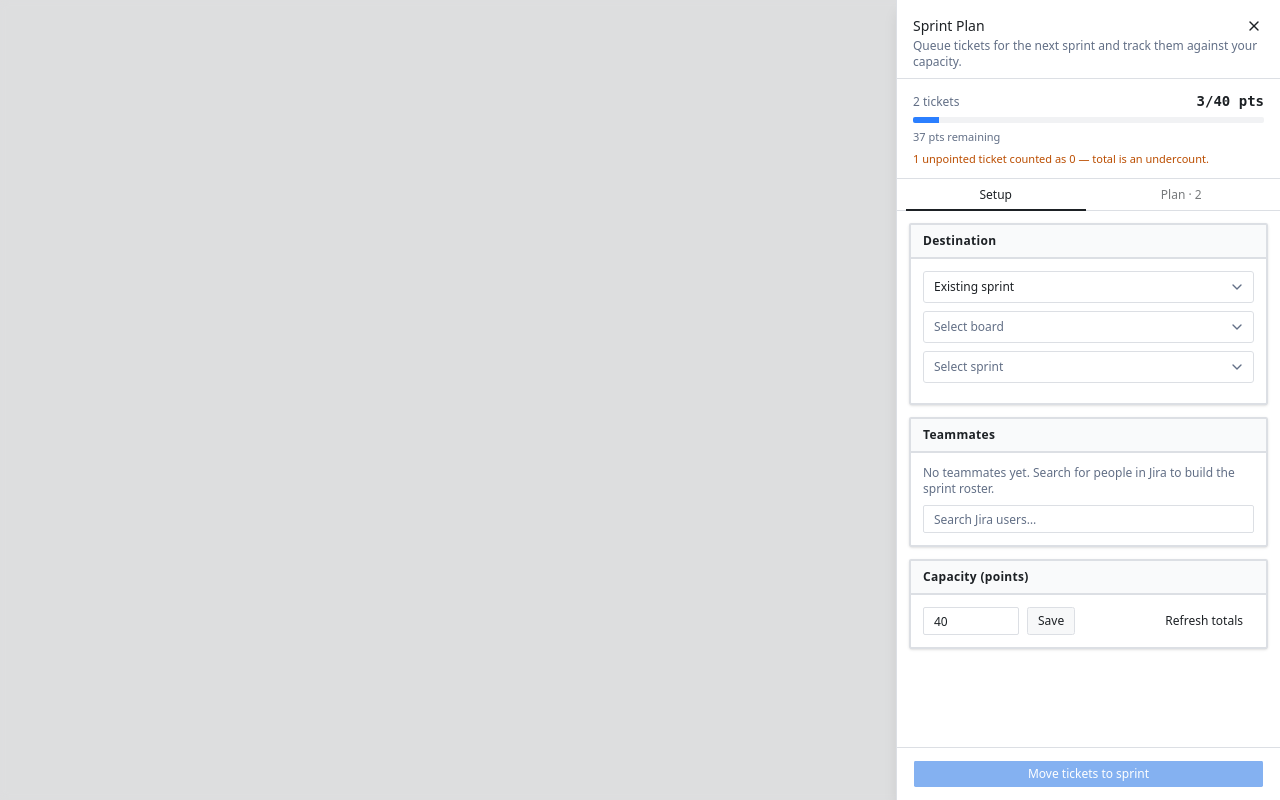
SprintPlanSheet › lists the plan items with their points
Click the tab "Plan · 2": (1181, 195) [1090, 183, 1272, 207]
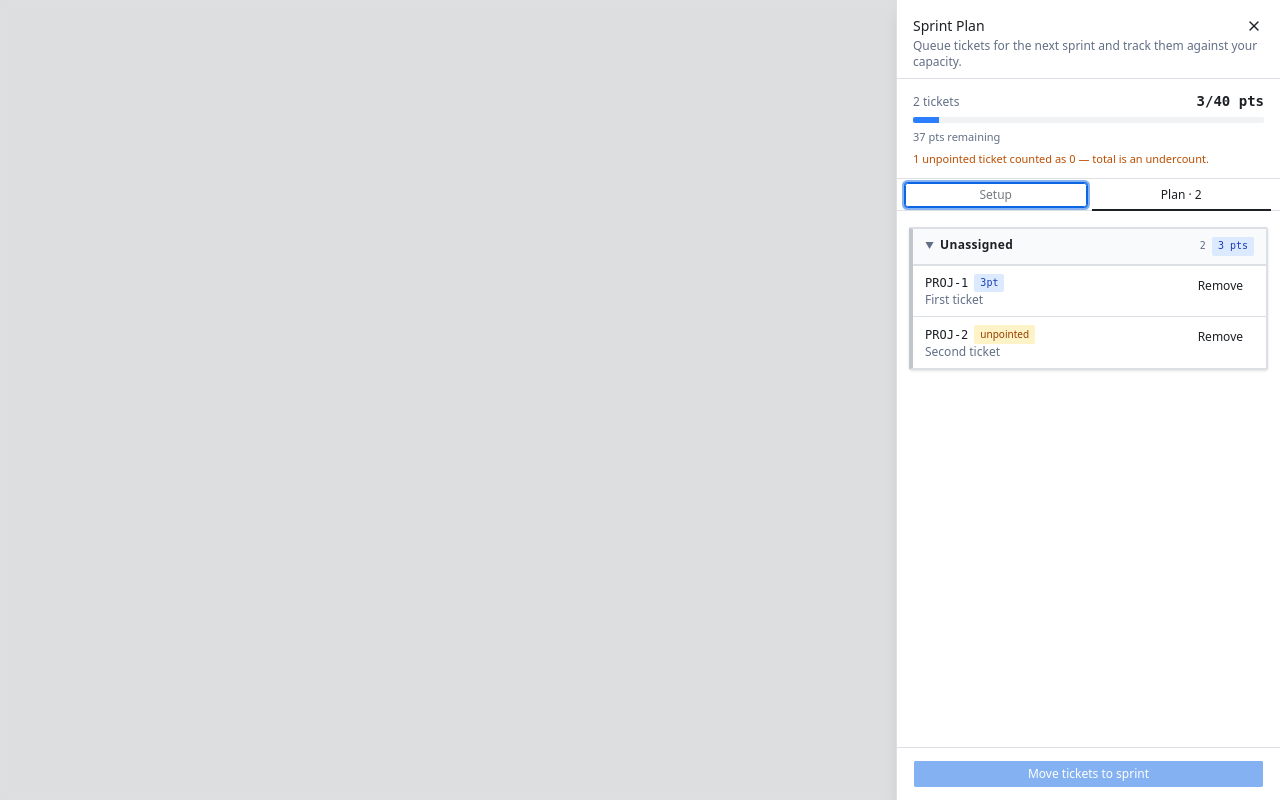
expect the text "PROJ-1" is shown: met, box [925, 275, 968, 291]
expect the text "First ticket" is shown: met, box [925, 291, 983, 308]
expect the text "3pt" is shown: met, box [974, 274, 1004, 292]
